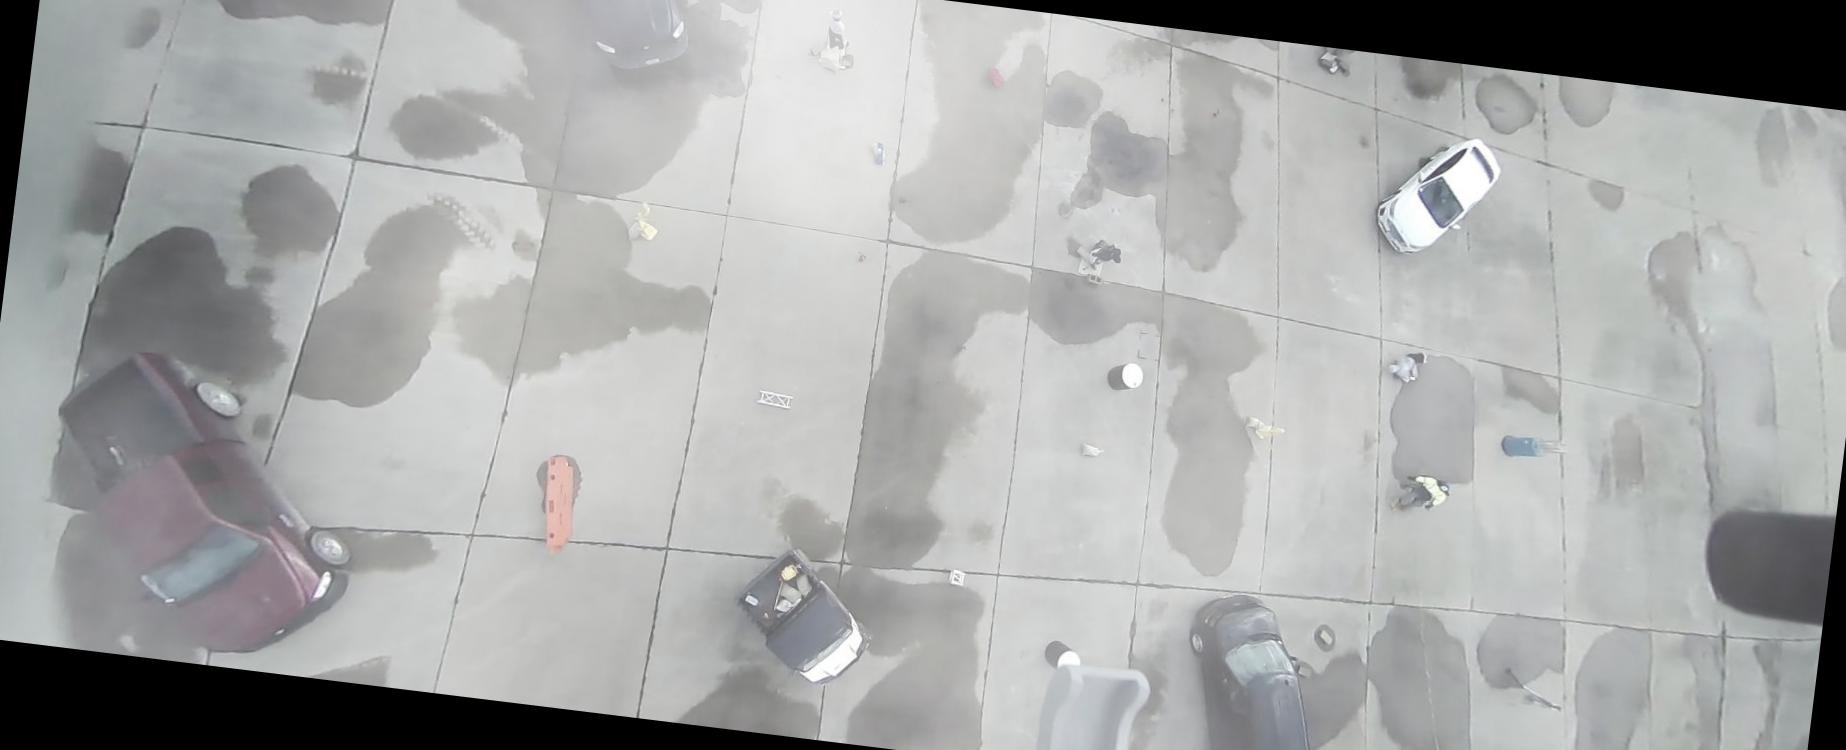vehicle: (29, 336, 374, 669), (1170, 588, 1343, 749), (728, 540, 883, 691), (1372, 126, 1503, 265), (540, 0, 697, 77)
